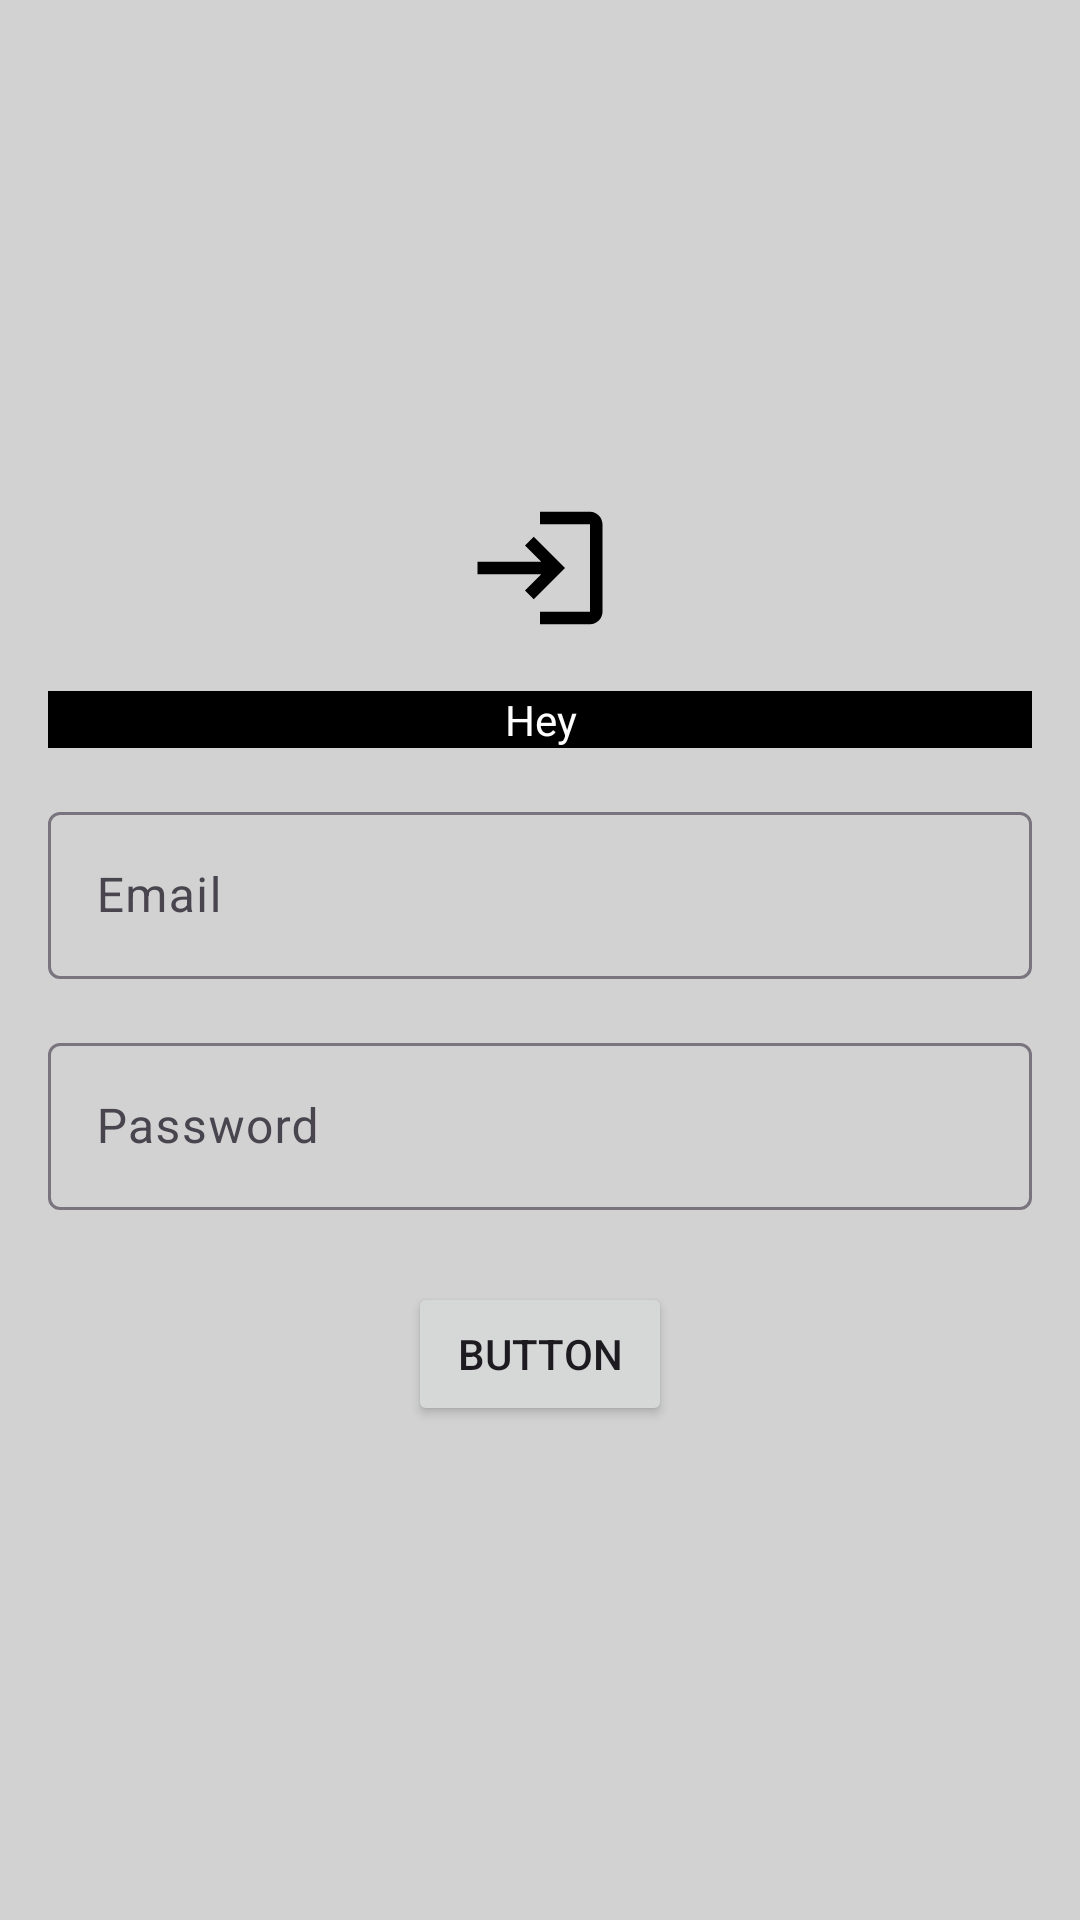

Icons on this 1080×1920 Android screen, each with the point to tap as point (x, y):
login: point (540, 568)
